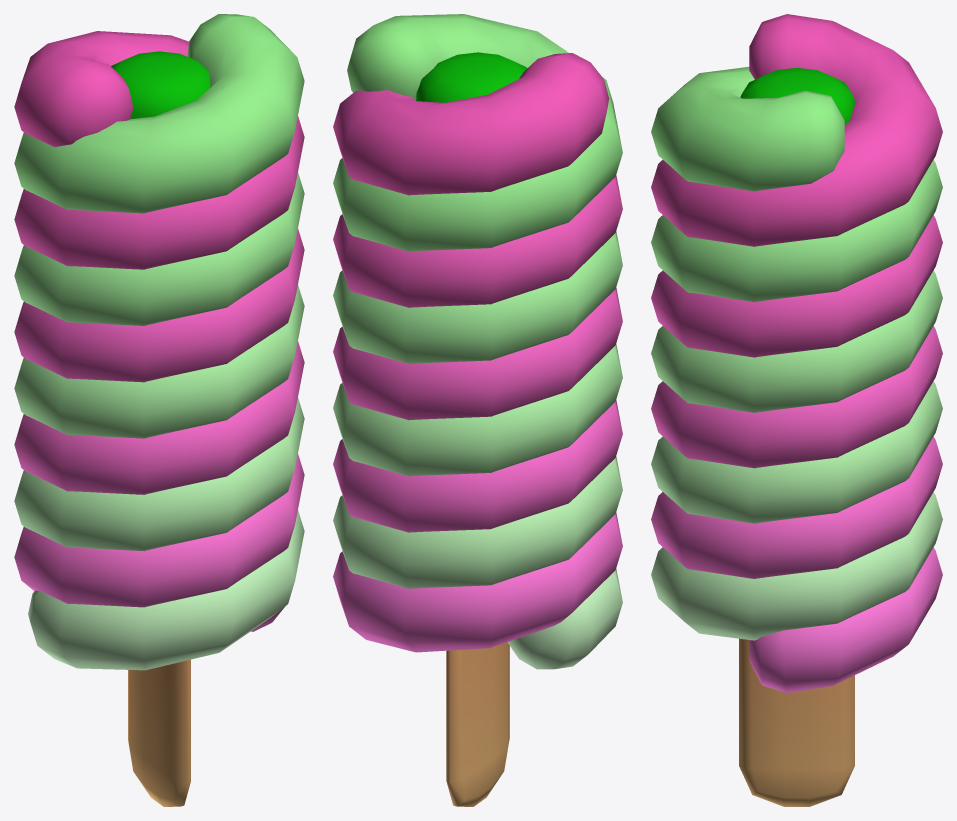
File: Ice_Cream_V1_02.fbx
The picture shows the model from 3 angles, left to right: view 1: azimuth 30°, elevation 25°; view 2: azimuth 150°, elevation 25°; view 3: azimuth 270°, elevation 25°; orthographic projection.
Parts seen in each view (by area): view 1: Ice_Cream_V1_02; view 2: Ice_Cream_V1_02; view 3: Ice_Cream_V1_02.
Boxes of the visible parts, left/top/right/bottom form: Ice_Cream_V1_02: left=14, top=14, right=304, bottom=806; Ice_Cream_V1_02: left=333, top=14, right=622, bottom=806; Ice_Cream_V1_02: left=651, top=14, right=942, bottom=806.
Bounding box in the file's own units: 20.02 × 59.42 × 20.97.
